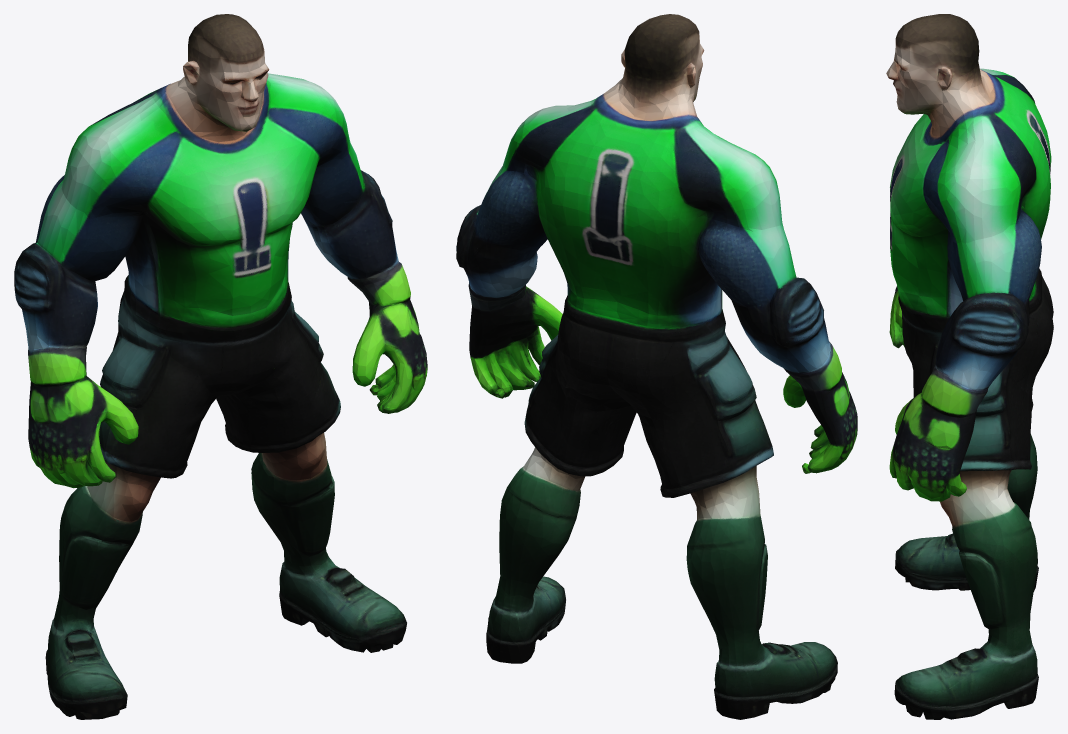
Rendered from keeper1_raw_backup.glb.
The picture shows the model from 3 angles, left to right: view 1: azimuth 30°, elevation 25°; view 2: azimuth 150°, elevation 25°; view 3: azimuth 270°, elevation 25°; orthographic projection. The views are drawn at different scales.
Visible parts, largest first — view 1: world; view 2: world; view 3: world.
Boxes of the visible parts, box(x1,y1,x2,y2) form: world: box(14, 14, 427, 719); world: box(456, 14, 857, 719); world: box(886, 14, 1053, 719).
Size of the model in its own units: 0.6143 by 0.9998 by 0.2426.
1 material, 1 textured.
